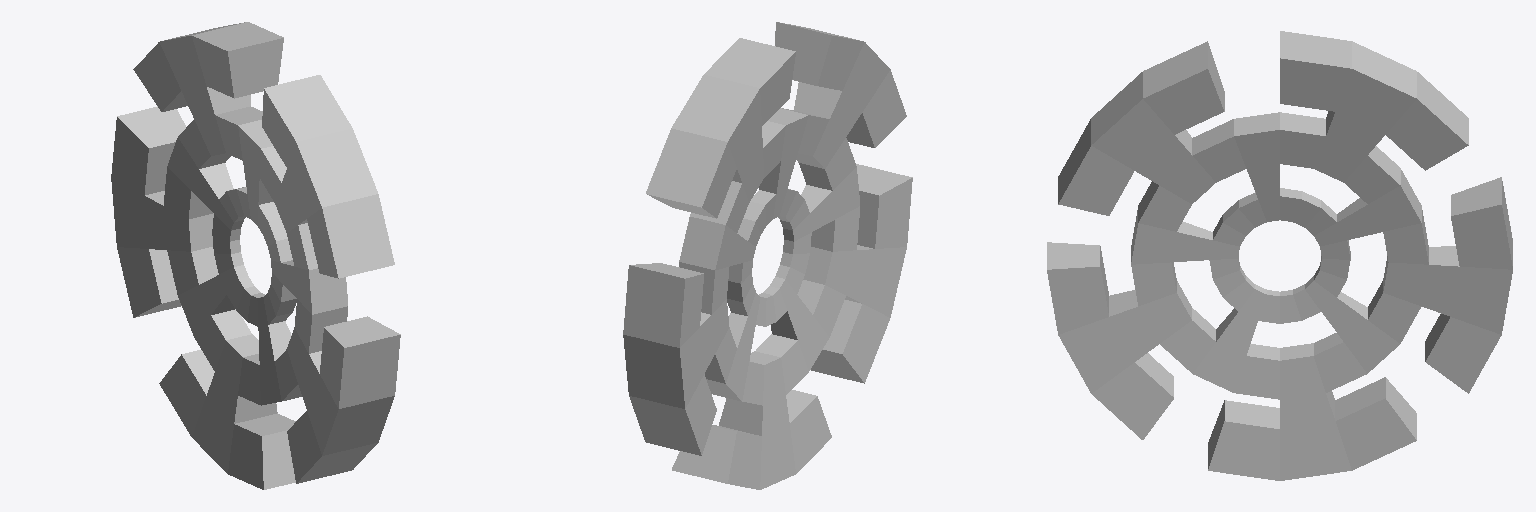
The model's file is Wheel3.obj.
3 renders of one model, left to right at view 1: azimuth 30°, elevation 25°; view 2: azimuth 150°, elevation 25°; view 3: azimuth 270°, elevation 25°, orthographic.
Visible parts, largest first — view 1: pCylinder21; view 2: pCylinder21; view 3: pCylinder21.
Boxes of the visible parts, x1=… form: pCylinder21: x1=111, y1=22, x2=400, y2=489; pCylinder21: x1=623, y1=22, x2=912, y2=489; pCylinder21: x1=1047, y1=31, x2=1512, y2=480.
Bounding box in the file's own units: 0.0199 × 0.1422 × 0.1422.